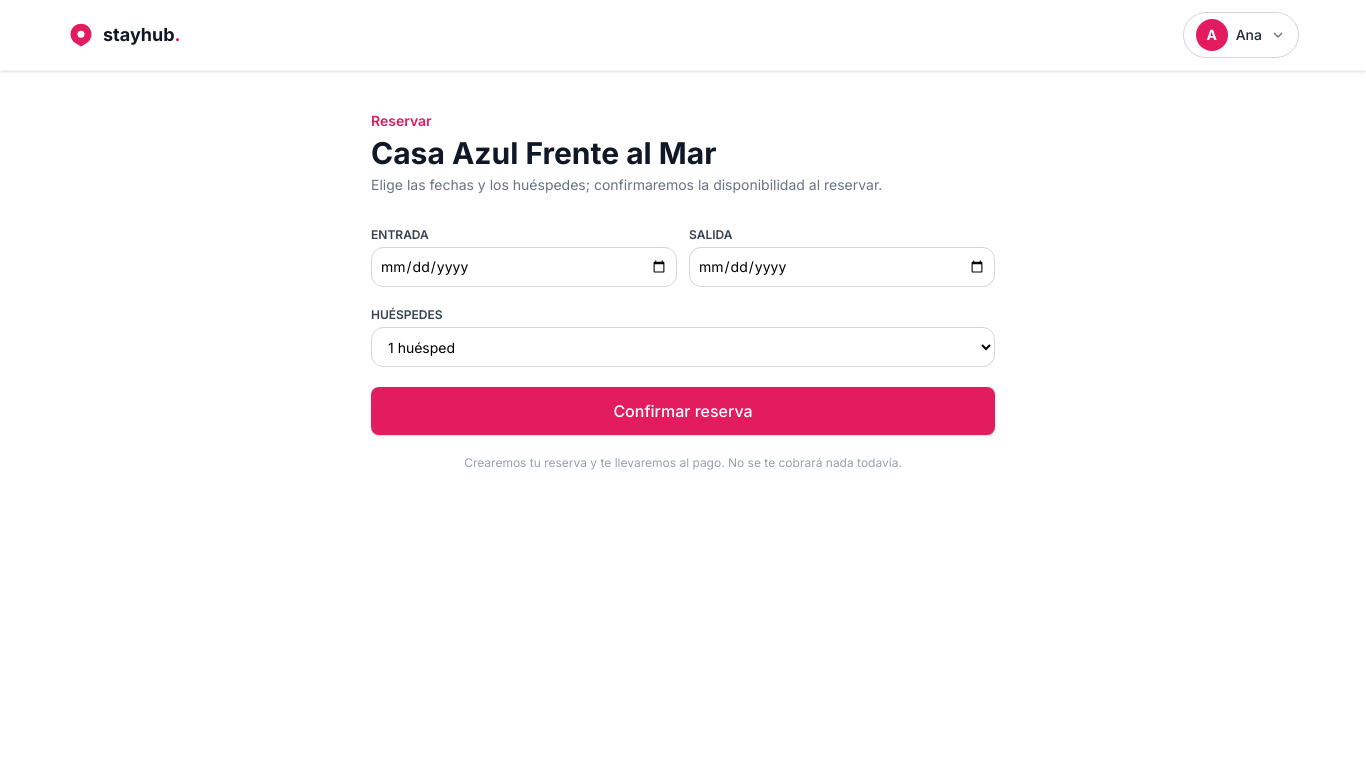
Test case: Booking flow — dates and total › validates required dates and a valid range before any booking request
Expected: the heading "Casa Azul Frente al Mar" is shown, [371,135,716,171]
Click the button "Confirmar reserva".
click(683, 411)  # box [371,387,995,435]
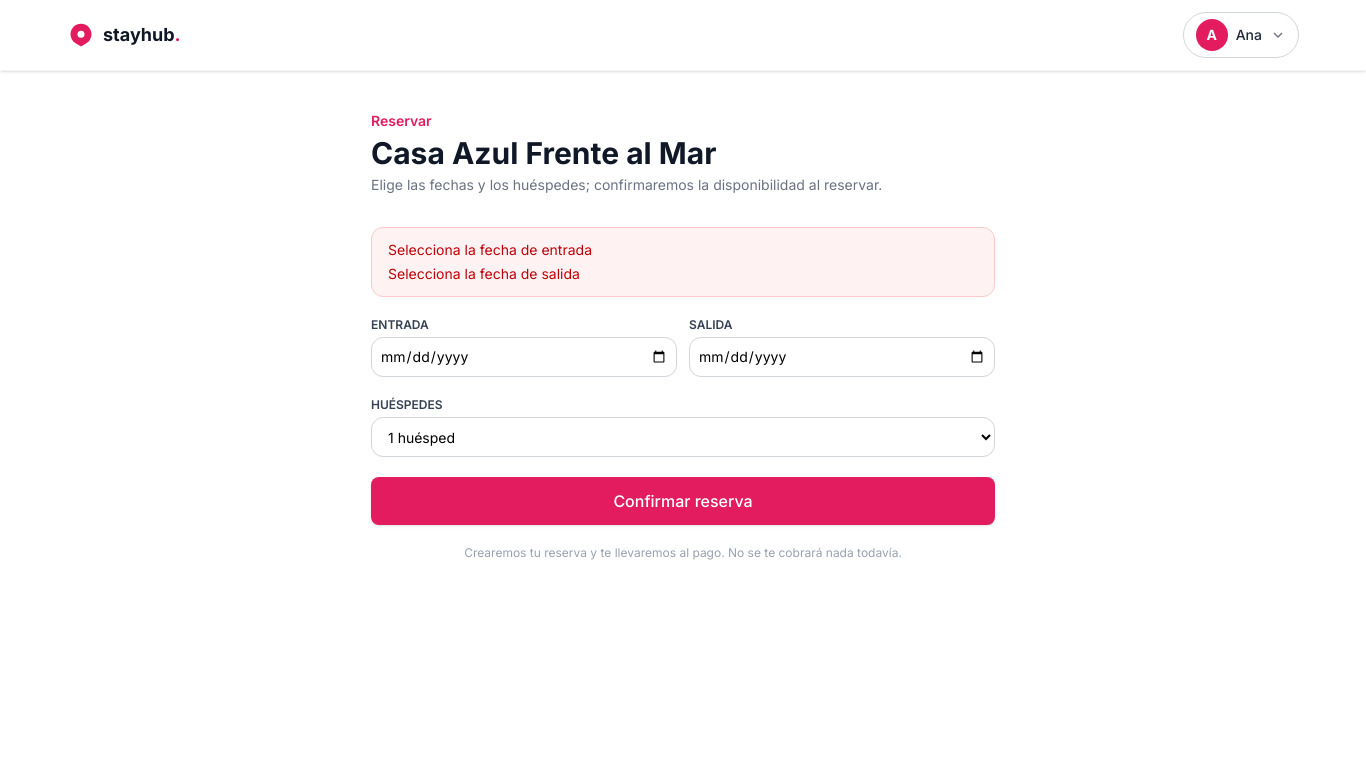
Expected: the text "Selecciona la fecha de entrada" is shown, [388,241,592,258]
Type "2027-01-10" into the date field labelled "ENTRADA".
click(524, 357); type("2027-01-10")  # box [371,337,677,377]
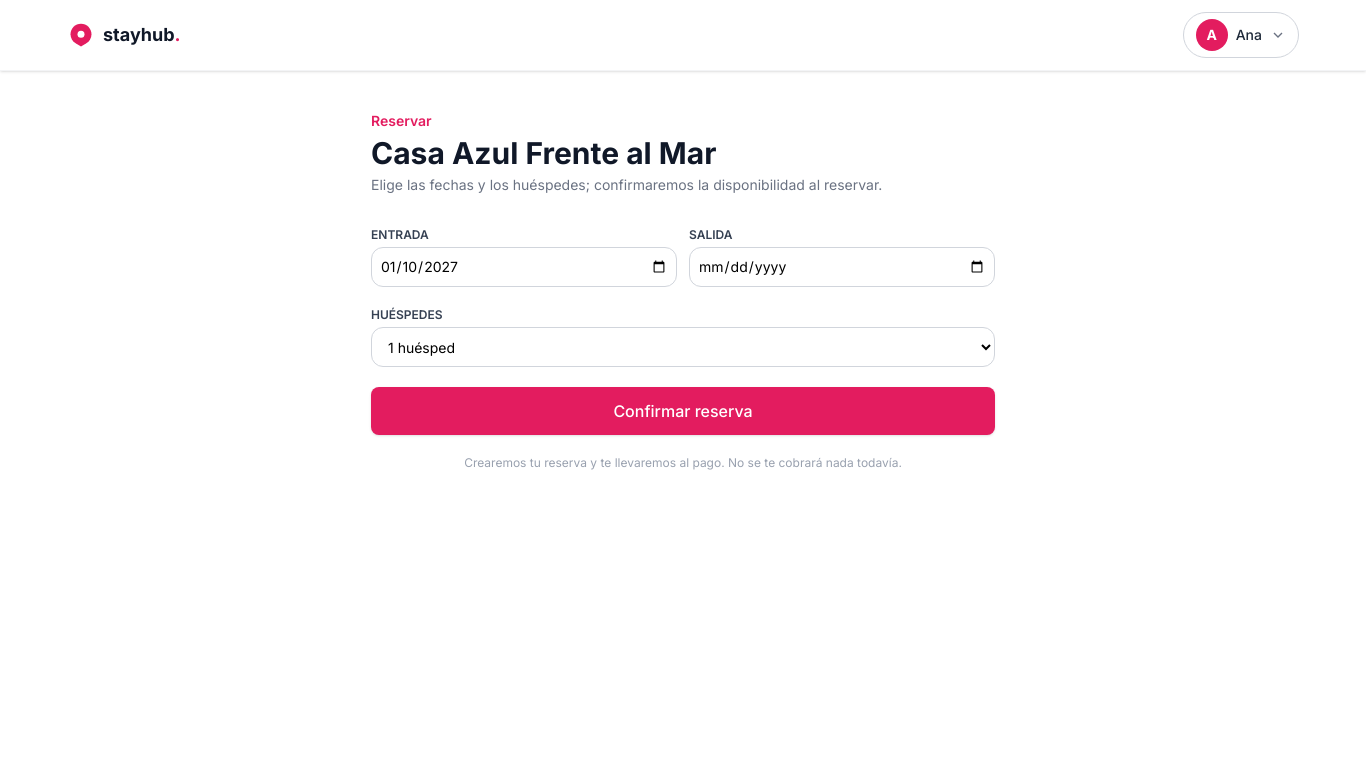
Type "2027-01-08" into the date field labelled "SALIDA".
click(842, 267); type("2027-01-08")  # box [689,247,995,287]
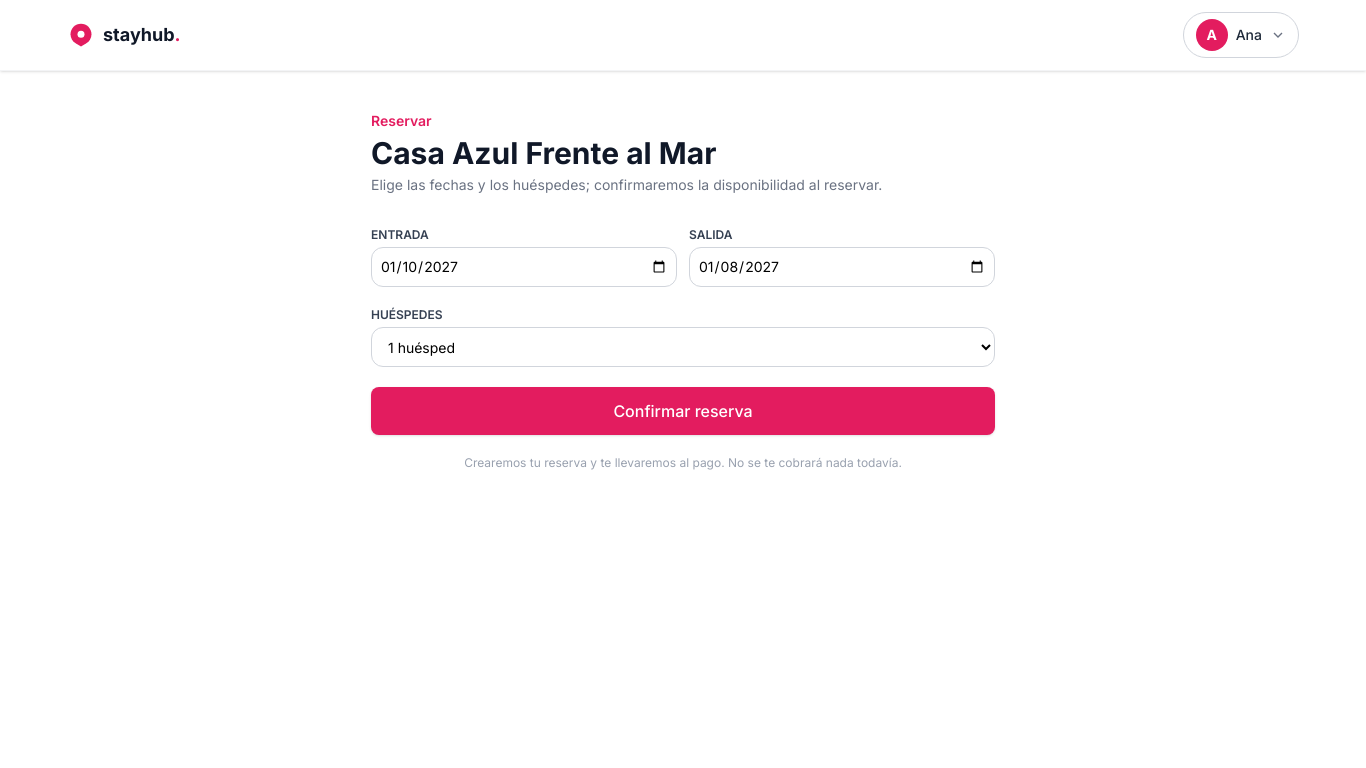
Click the button "Confirmar reserva".
click(683, 411)  # box [371,387,995,435]
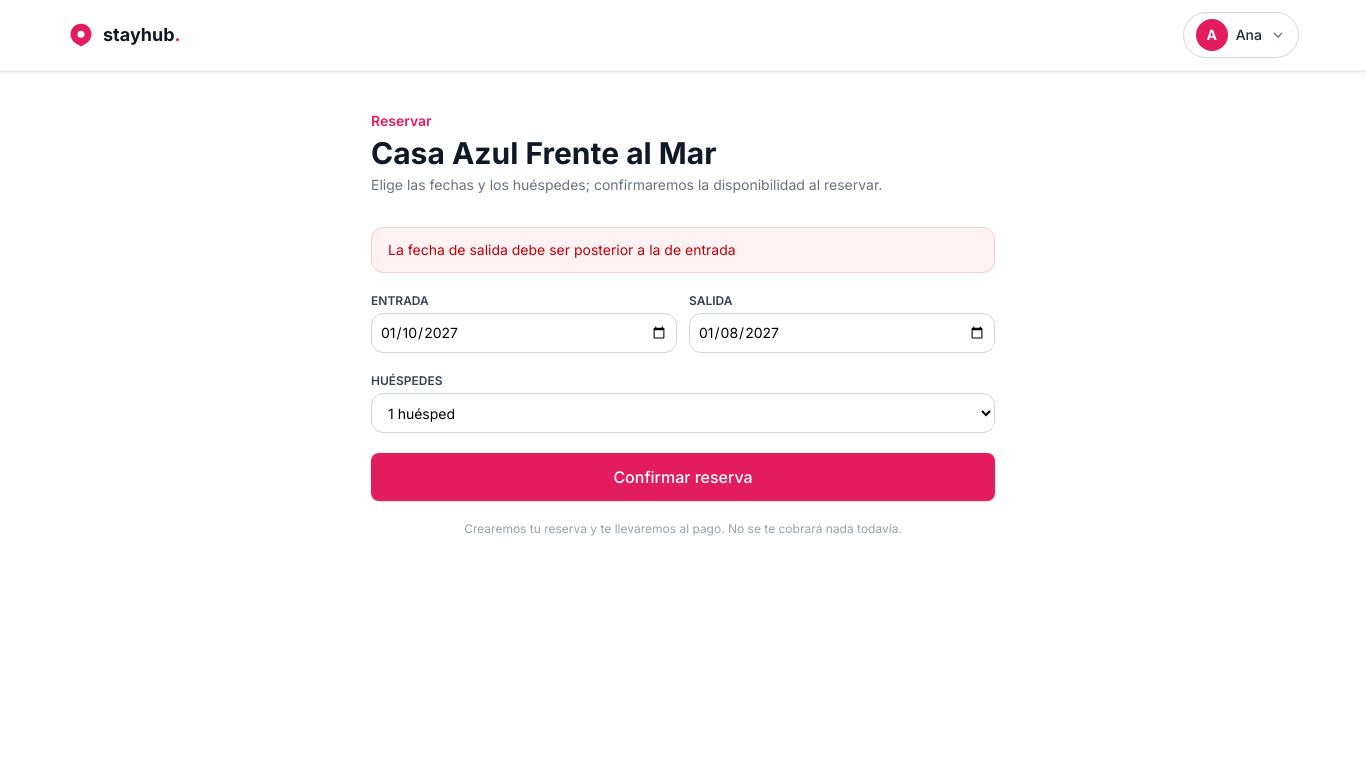
Expected: the text "La fecha de salida debe ser posterior a la de entrada" is shown, [388,241,736,258]
